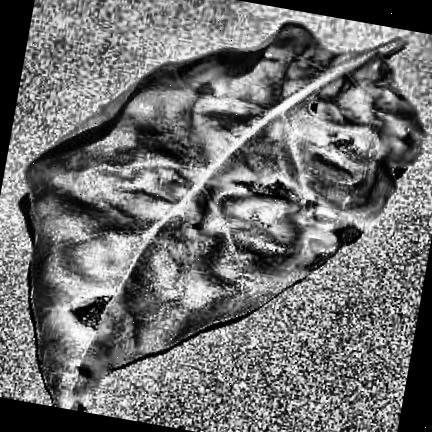leaf: (26, 21, 427, 409)
